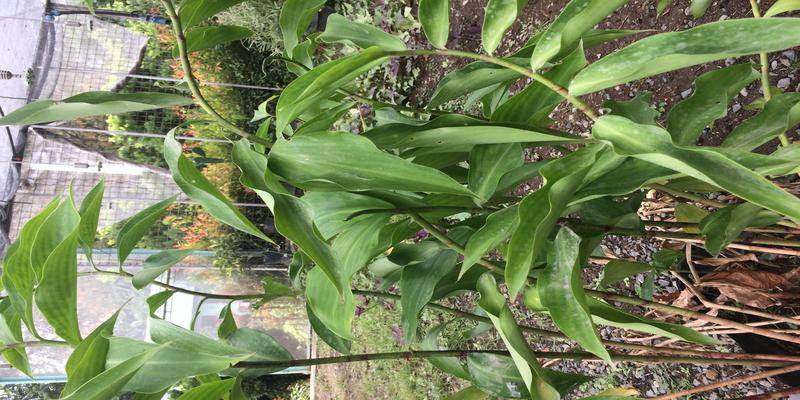Insulin: (243, 130, 784, 381)
